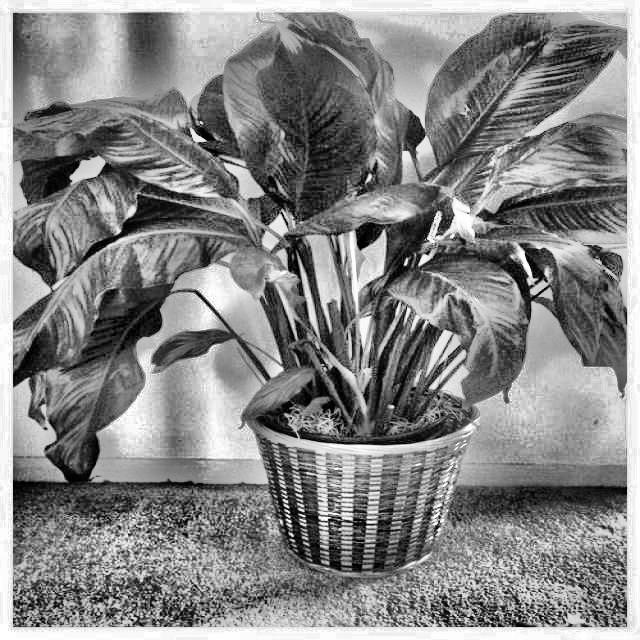plants: (11, 12, 626, 580), (27, 219, 284, 436)
